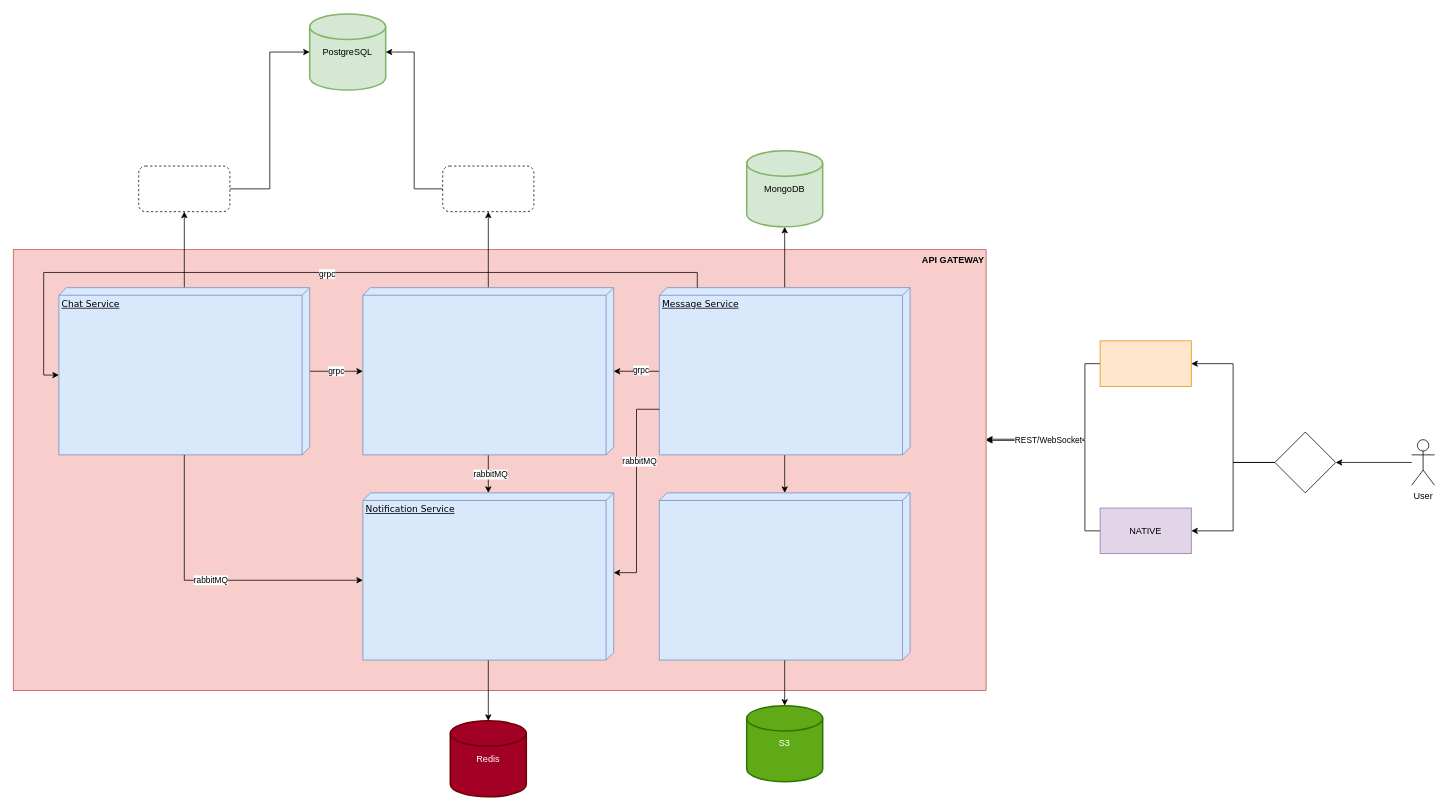
This 1448x810 diagram has some shape labels left out. The shapes that lost their labels are listed below. From the top down, each one's centre as x and y in pixels, then its label:
At point 184,188: "Schema 1".
At point 488,188: "Schema 2".
At point 488,371: "User Microservice".
At point 1145,363: "WEB".
At point 784,576: "Media Service".
